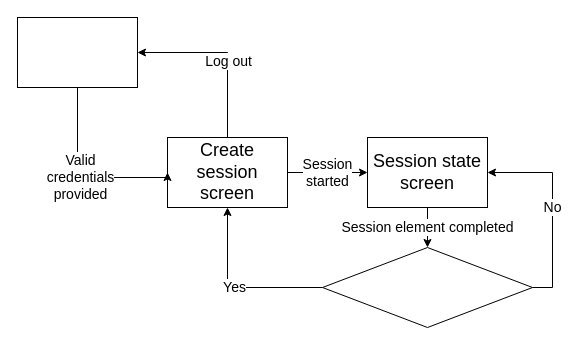
This 579x345 diagram has some shape labels left out. Each missing label, with the centre of its shape:
Login: the point at 77,52
Session finished?: the point at 427,287
